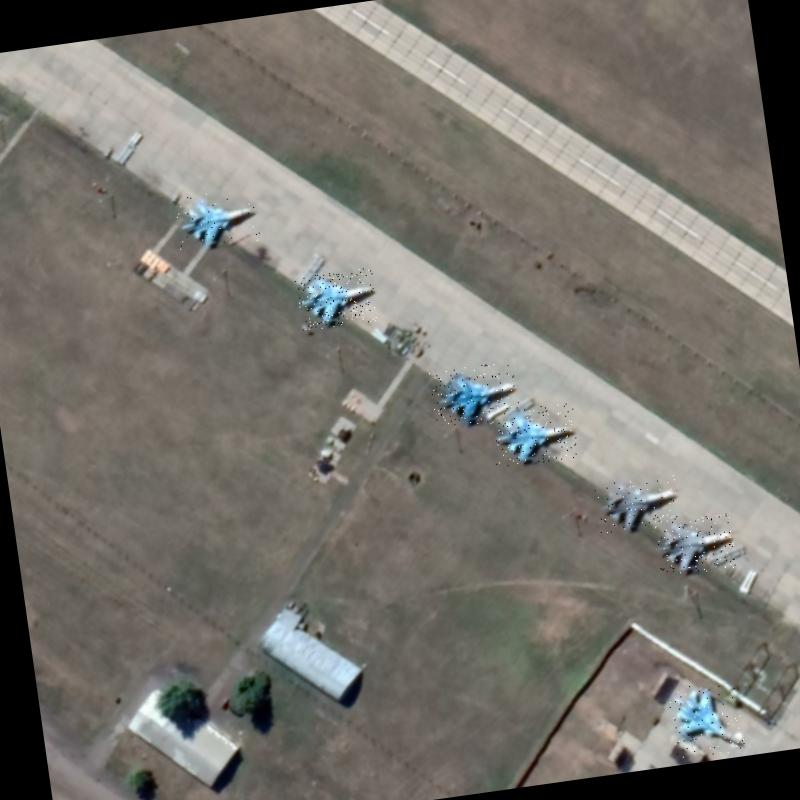A19: (667, 678, 749, 760), (428, 360, 522, 429), (488, 401, 580, 468), (172, 187, 260, 254), (594, 470, 680, 534), (654, 511, 736, 578), (294, 267, 379, 331)
